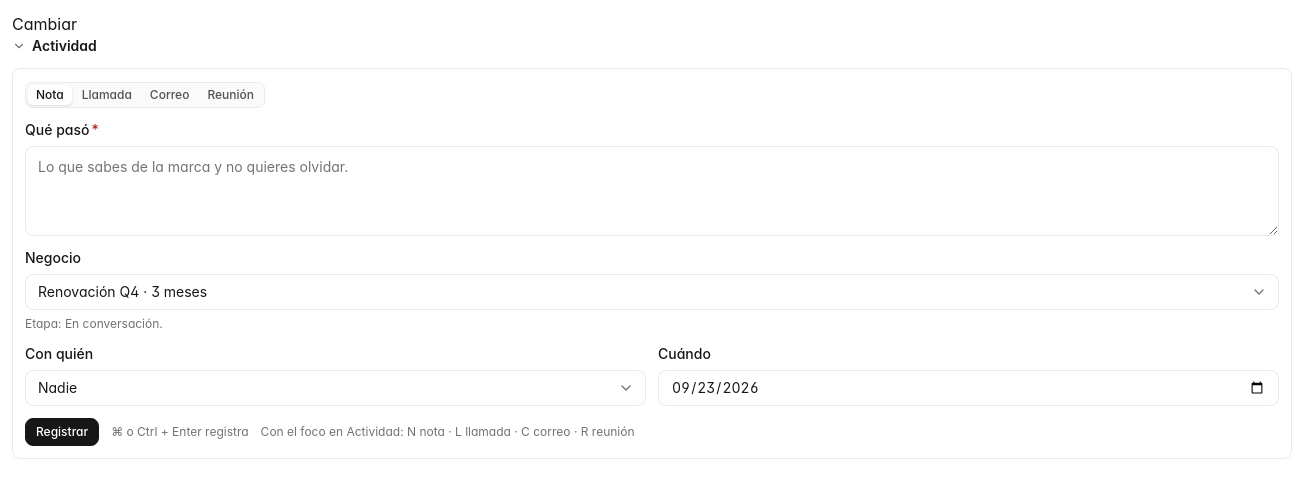
Test case: RegistroRapido › el error del servidor se ve en su campo y lo escrito no se pierde
Step 1. Type "Nota importante" into the text box labelled "Qué pasó*" → x=652, y=191, box [25,146,1279,236]
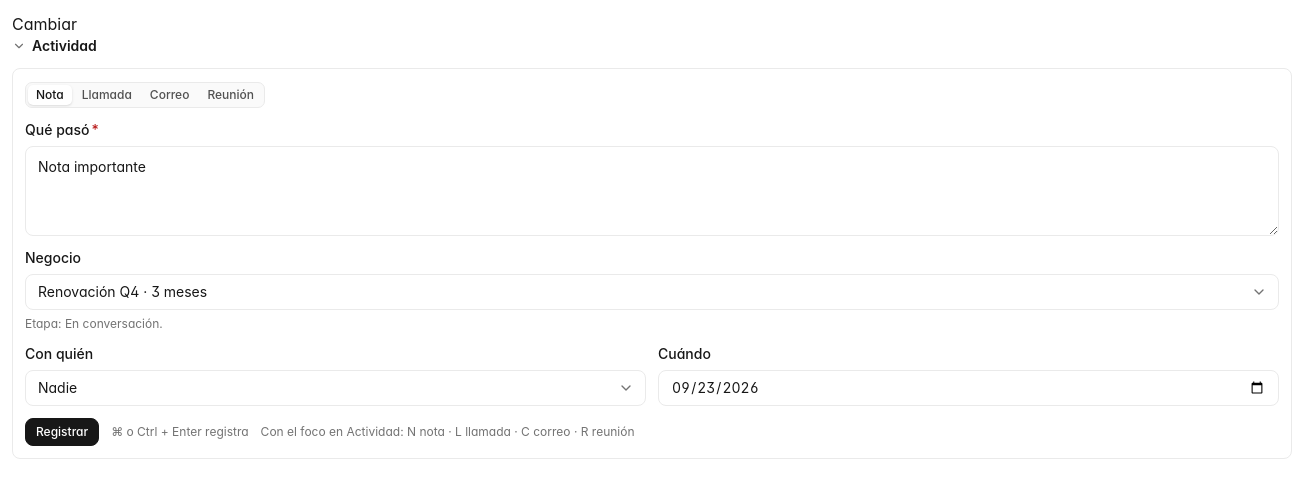
Step 2. Click the button "Registrar" → x=62, y=432, box [25,418,99,446]
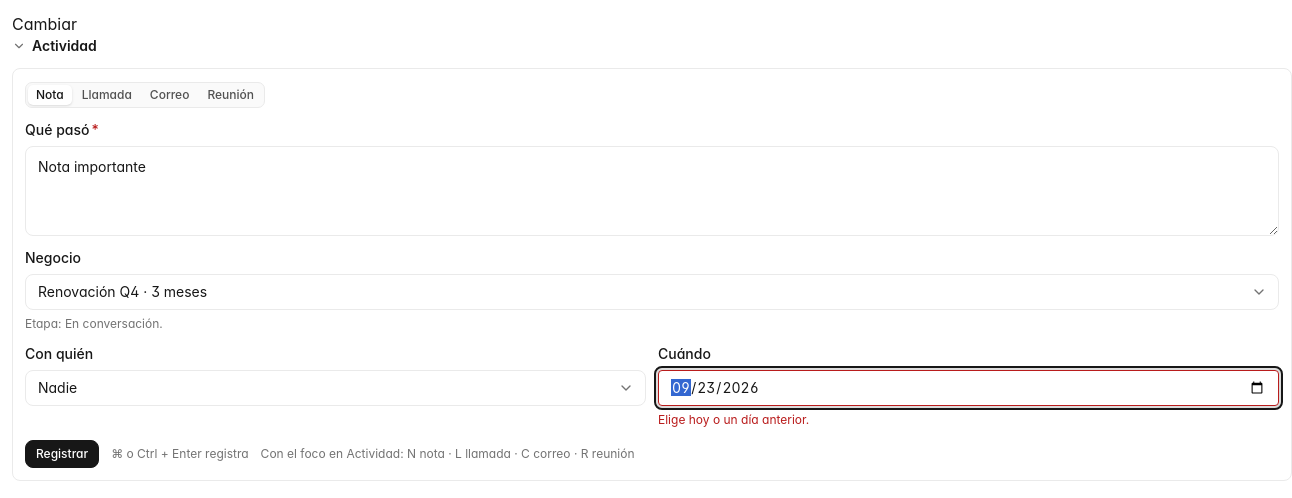
Now the text "Elige hoy o un día anterior." is shown, box [658,412,809,427]
